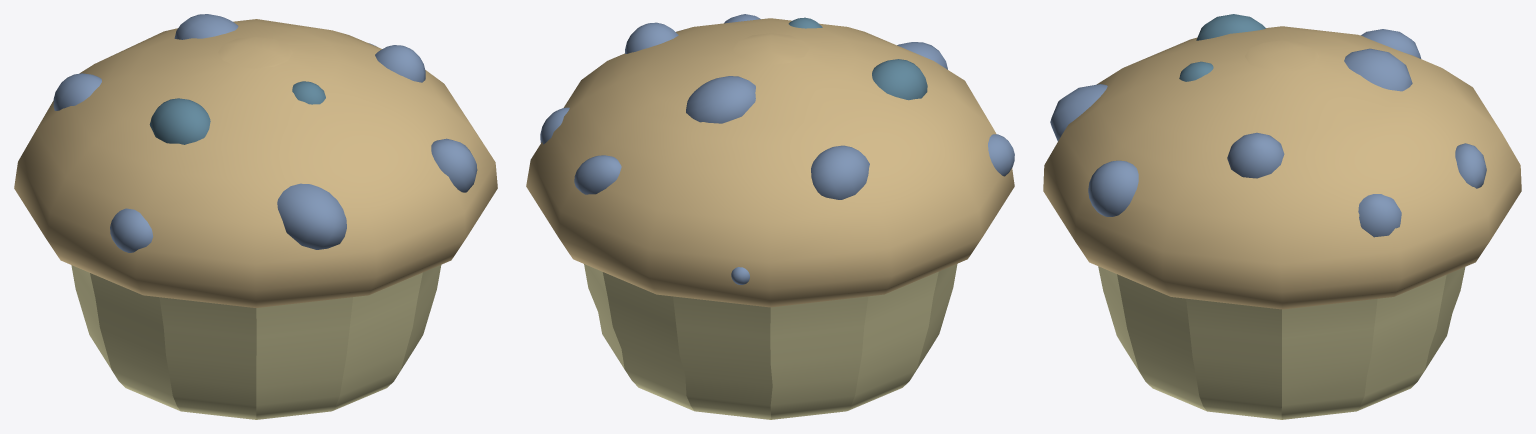
The model's file is atoll_sm_blueberryMuffin.fbx.
3 views of the same model, side by side, from view 1: azimuth 30°, elevation 25°; view 2: azimuth 150°, elevation 25°; view 3: azimuth 270°, elevation 25° (orthographic). The views are drawn at different scales.
Visible parts, largest first — view 1: Muffin, pSphere5, pSphere3, pSphere1, pSphere4, pSphere2, pSphere9, pSphere7, pSphere10; view 2: Muffin, pSphere7, pSphere9, pSphere3, pSphere8, pSphere2, pSphere4, pSphere5, pSphere6; view 3: Muffin, pSphere1, pSphere2, pSphere7, pSphere6, pSphere5, pSphere3, pSphere8, pSphere9, pSphere10.
Boxes of the visible parts, x1,y1,x2,y2 form: Muffin: (14,19,497,419); pSphere5: (277,183,346,249); pSphere3: (149,98,210,144); pSphere1: (431,138,477,192); pSphere4: (110,208,153,252); pSphere2: (375,45,425,82); pSphere9: (53,73,101,110); pSphere7: (174,14,238,39); pSphere10: (292,81,325,104); Muffin: (526,18,1014,419); pSphere7: (686,76,755,123); pSphere9: (811,145,869,199); pSphere3: (872,59,927,100); pSphere8: (574,155,621,194); pSphere2: (625,22,678,53); pSphere4: (988,134,1014,176); pSphere5: (897,42,947,69); pSphere6: (540,107,569,144); Muffin: (1043,26,1521,419); pSphere1: (1088,160,1138,216); pSphere2: (1227,132,1284,178); pSphere7: (1344,48,1412,91); pSphere6: (1358,194,1401,237); pSphere5: (1050,84,1107,141); pSphere3: (1196,14,1265,40); pSphere8: (1455,143,1486,188); pSphere9: (1361,29,1421,58); pSphere10: (1179,61,1213,81).
Bounding box in the file's own units: 7.48 × 5.36 × 7.48.
